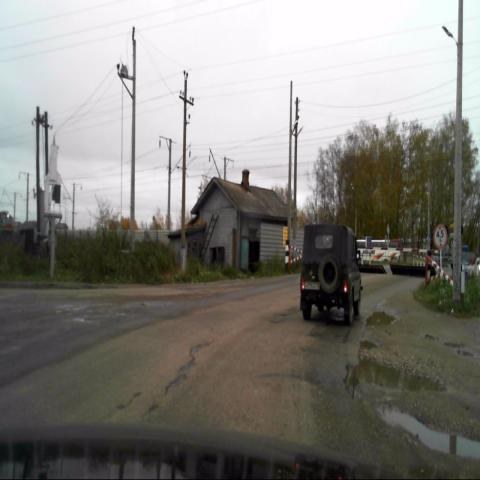3_13: (433, 222, 448, 248)
